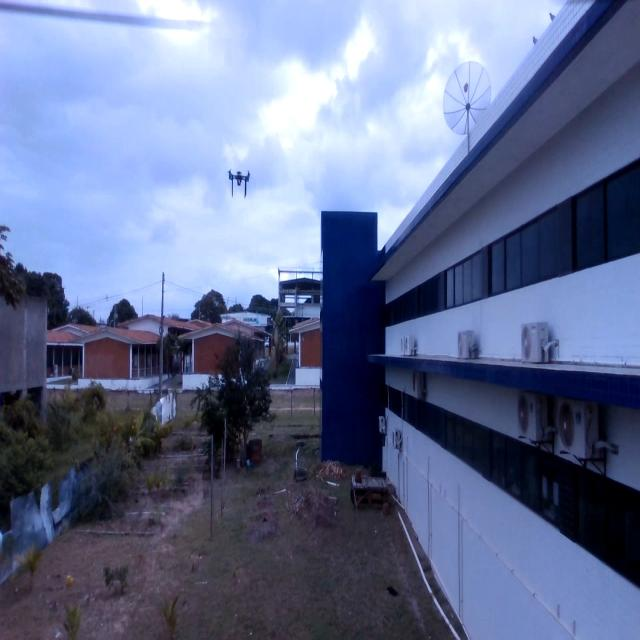-uav-: (221, 160, 260, 207)
